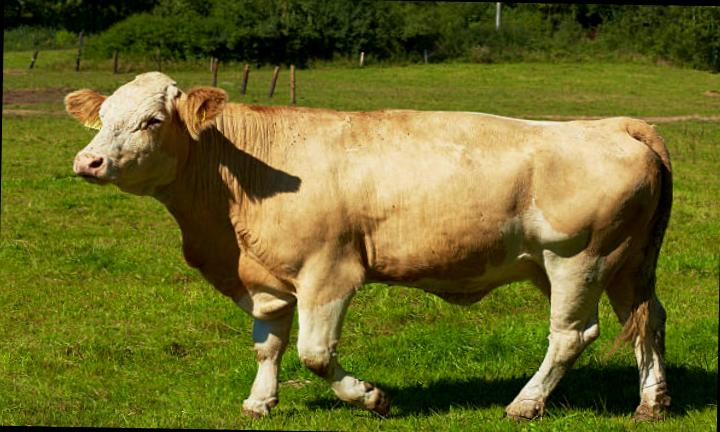Charolais: (66, 72, 671, 419)
